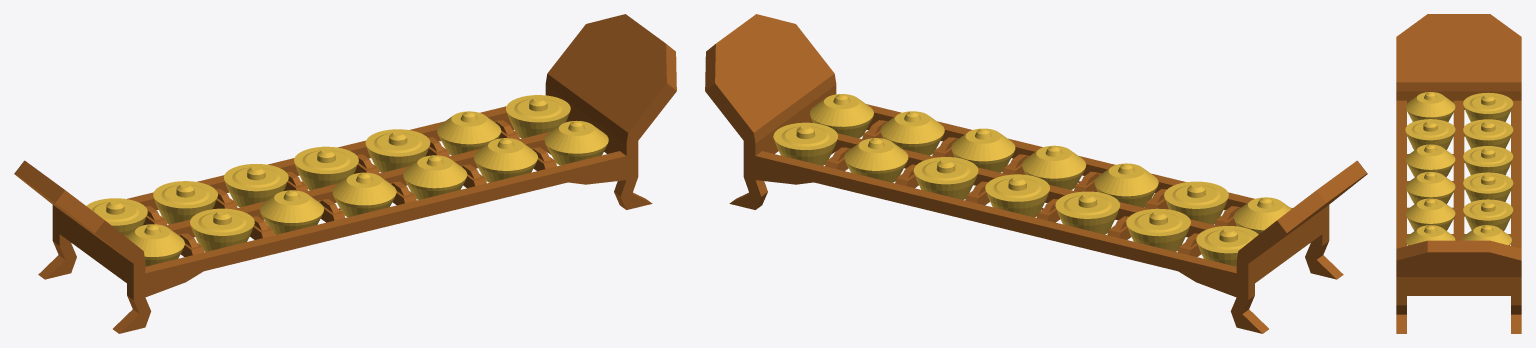
Rendered from Bonang.glb.
3 renders of one model, left to right at view 1: azimuth 30°, elevation 25°; view 2: azimuth 150°, elevation 25°; view 3: azimuth 270°, elevation 25°, orthographic. The views are drawn at different scales.
Parts seen in each view (by area): view 1: Cube.001, Kempyang.002, Kempyang.006, Kempyang, Kempyang.001, Kempyang.003, Kethuk.006, Kethuk.003, Kethuk.004, Kethuk.005, Kempyang.004, Kethuk (+3 smaller); view 2: Cube.001, Kempyang.003, Kempyang, Kempyang.006, Kempyang.004, Kempyang.001, Kethuk.002, Kempyang.002, Kethuk.005, Kethuk.006, Kethuk.004, Kethuk (+3 smaller); view 3: Cube.001, Kempyang, Kempyang.001, Kempyang.004, Kempyang.002, Kempyang.005, Kempyang.003, Kethuk, Kethuk.004, Kethuk.003, Kethuk.001, Kethuk.002 (+1 smaller).
Part boxes in pixels (left/top/right/bottom): Cube.001: left=14, top=14, right=676, bottom=333; Kempyang.002: left=190, top=208, right=254, bottom=251; Kempyang.006: left=506, top=95, right=570, bottom=138; Kempyang: left=294, top=146, right=358, bottom=190; Kempyang.001: left=365, top=129, right=430, bottom=172; Kempyang.003: left=224, top=164, right=288, bottom=207; Kethuk.006: left=544, top=120, right=608, bottom=165; Kethuk.003: left=332, top=172, right=396, bottom=217; Kethuk.004: left=403, top=155, right=467, bottom=199; Kethuk.005: left=474, top=138, right=537, bottom=182; Kempyang.004: left=153, top=181, right=217, bottom=224; Kethuk: left=260, top=190, right=323, bottom=234; Cube.001: left=705, top=14, right=1367, bottom=333; Kempyang.003: left=1055, top=191, right=1120, bottom=234; Kempyang: left=985, top=174, right=1049, bottom=217; Kempyang.006: left=773, top=122, right=838, bottom=165; Kempyang.004: left=1126, top=208, right=1190, bottom=251; Kempyang.001: left=913, top=157, right=978, bottom=199; Kethuk.002: left=844, top=138, right=908, bottom=182; Kempyang.002: left=1164, top=181, right=1228, bottom=224; Kethuk.005: left=880, top=111, right=944, bottom=155; Kethuk.006: left=810, top=94, right=873, bottom=138; Kethuk.004: left=951, top=128, right=1015, bottom=172; Kethuk: left=1094, top=163, right=1158, bottom=207; Cube.001: left=1396, top=14, right=1521, bottom=333; Kempyang: left=1463, top=172, right=1513, bottom=202; Kempyang.001: left=1463, top=199, right=1513, bottom=230; Kempyang.004: left=1463, top=119, right=1513, bottom=148; Kempyang.002: left=1405, top=119, right=1455, bottom=150; Kempyang.005: left=1463, top=92, right=1513, bottom=121; Kempyang.003: left=1463, top=146, right=1513, bottom=175; Kethuk: left=1406, top=144, right=1455, bottom=176; Kethuk.004: left=1406, top=198, right=1455, bottom=230; Kethuk.003: left=1406, top=171, right=1455, bottom=204; Kethuk.001: left=1406, top=92, right=1455, bottom=121; Kethuk.002: left=1462, top=225, right=1511, bottom=245.
Bounding box in the file's own units: 10.62 × 2.24 × 2.4.
